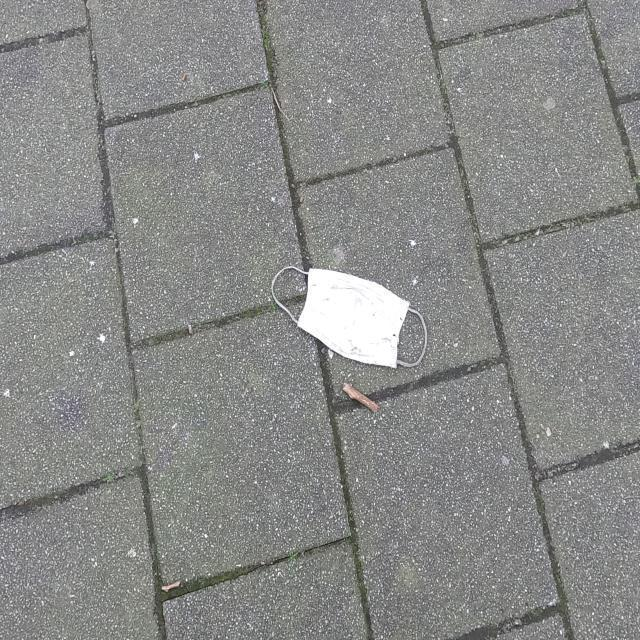Mask: (269, 262, 428, 371)
